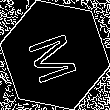M_E: (25, 25, 85, 85)
